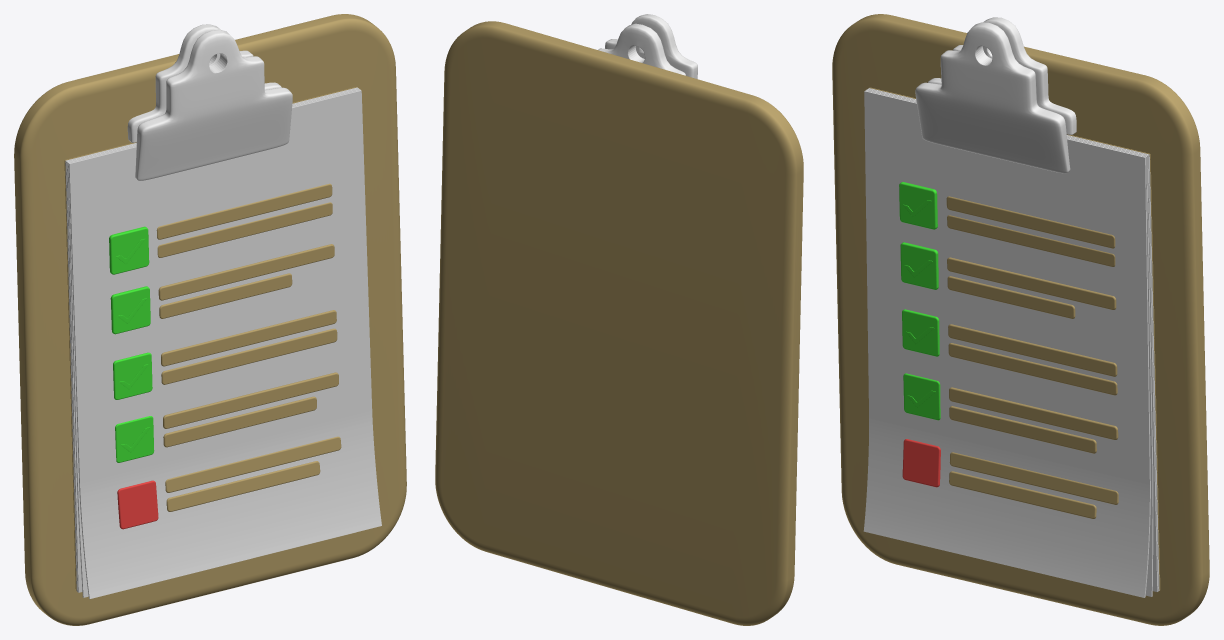
The model's file is document.glb.
The picture shows the model from 3 angles, left to right: view 1: azimuth 30°, elevation 25°; view 2: azimuth 150°, elevation 25°; view 3: azimuth 330°, elevation 25°; orthographic projection. The views are drawn at different scales.
Visible parts, largest first — view 1: Cube_Material.001_0_7, Cube_Material.003_0_4, Cube_Material.004_0_9, Cube_Material.002_0_10, Cube_Material.003_0_5, Cube_Material.007_0_8, Cube_Material.005_0_12, Cube_Material.003_0_6, Cube_Material.002_0_11; view 2: Cube_Material.003_0_4, Cube_Material.004_0_9; view 3: Cube_Material.001_0_7, Cube_Material.003_0_4, Cube_Material.004_0_9, Cube_Material.002_0_10, Cube_Material.003_0_5, Cube_Material.007_0_8, Cube_Material.005_0_12, Cube_Material.003_0_6, Cube_Material.002_0_11.
Boxes of the visible parts, bbox=[...] form: Cube_Material.001_0_7: bbox=[68, 90, 381, 598]; Cube_Material.003_0_4: bbox=[14, 14, 406, 625]; Cube_Material.004_0_9: bbox=[127, 24, 292, 180]; Cube_Material.002_0_10: bbox=[110, 227, 154, 462]; Cube_Material.003_0_5: bbox=[157, 183, 338, 447]; Cube_Material.007_0_8: bbox=[65, 87, 360, 597]; Cube_Material.005_0_12: bbox=[117, 480, 158, 529]; Cube_Material.003_0_6: bbox=[163, 373, 338, 511]; Cube_Material.002_0_11: bbox=[109, 226, 152, 399]; Cube_Material.003_0_4: bbox=[435, 21, 803, 625]; Cube_Material.004_0_9: bbox=[598, 14, 697, 78]; Cube_Material.001_0_7: bbox=[863, 90, 1150, 597]; Cube_Material.003_0_4: bbox=[832, 14, 1209, 625]; Cube_Material.004_0_9: bbox=[915, 17, 1076, 173]; Cube_Material.002_0_10: bbox=[899, 182, 940, 420]; Cube_Material.003_0_5: bbox=[947, 208, 1118, 453]; Cube_Material.007_0_8: bbox=[866, 88, 1159, 596]; Cube_Material.005_0_12: bbox=[902, 439, 940, 487]; Cube_Material.003_0_6: bbox=[949, 387, 1117, 518]; Cube_Material.002_0_11: bbox=[899, 182, 939, 356].
Bounding box in the file's own units: 0.2325 × 0.3396 × 0.036.
